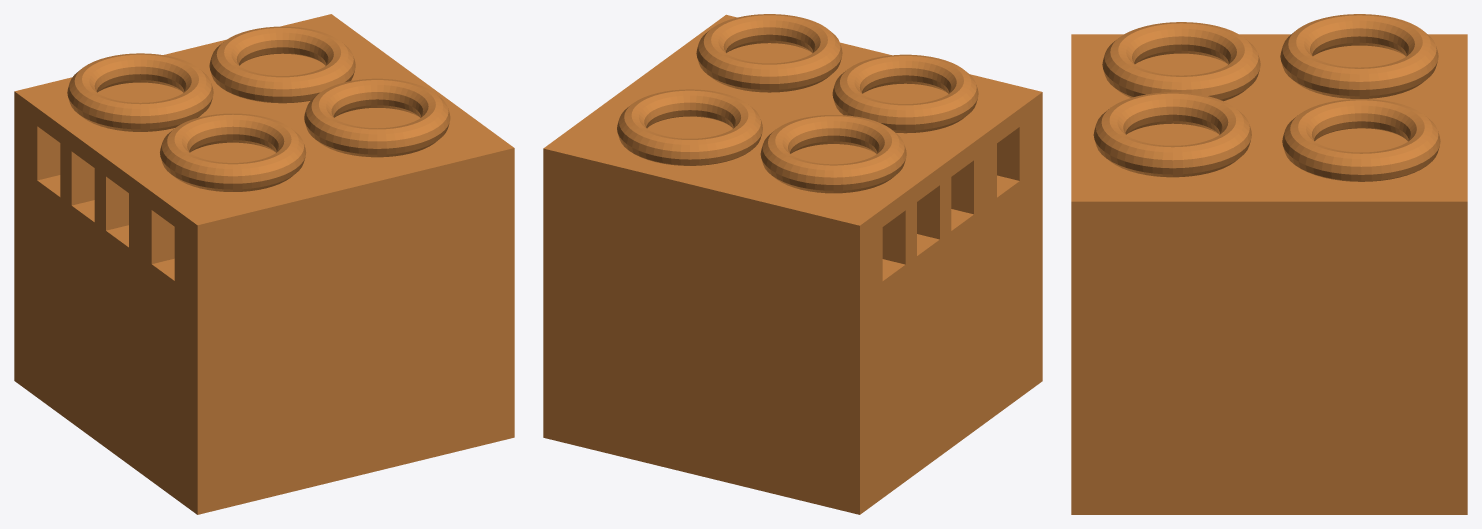
The model's file is estufa.fbx.
The picture shows the model from 3 angles, left to right: view 1: azimuth 30°, elevation 25°; view 2: azimuth 150°, elevation 25°; view 3: azimuth 270°, elevation 25°; orthographic projection. The views are drawn at different scales.
Visible parts, largest first — view 1: Plane; view 2: Plane; view 3: Plane.
Boxes of the visible parts, bbox=[...] form: Plane: bbox=[14, 14, 514, 514]; Plane: bbox=[543, 14, 1042, 514]; Plane: bbox=[1071, 14, 1467, 514].
Size of the model in its own units: 200 by 193 by 200.
